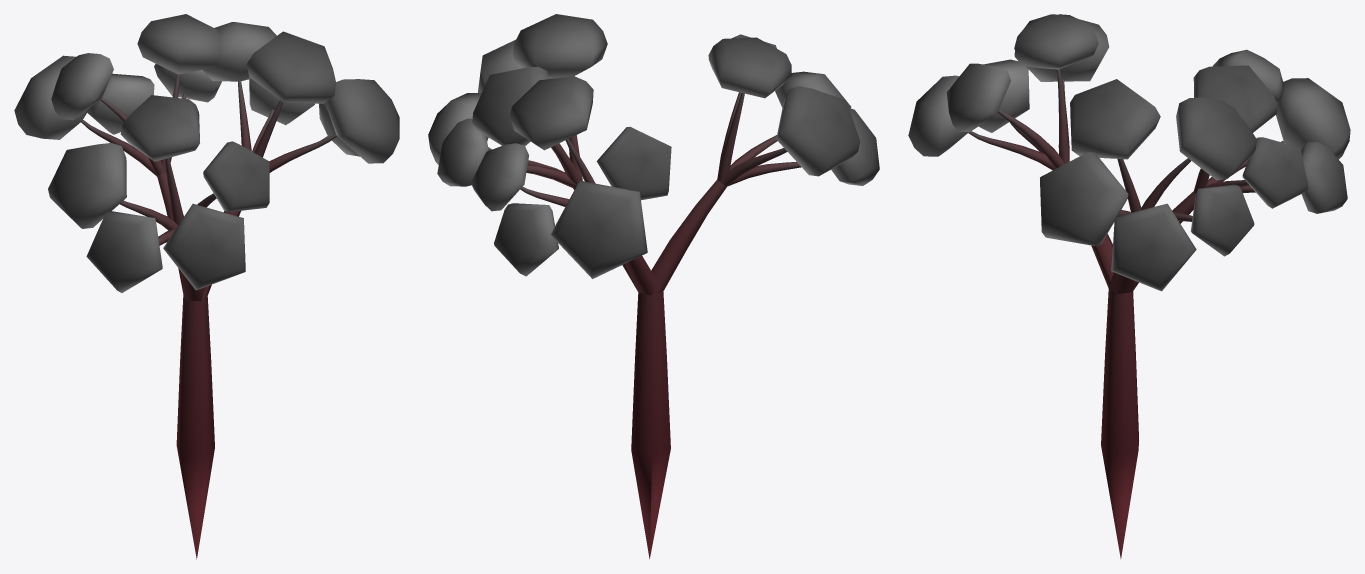
Rendered from plants-trees-palms-gray-leaf-tree_v1.glb.
3 views of the same model, side by side, from view 1: azimuth 30°, elevation 25°; view 2: azimuth 150°, elevation 25°; view 3: azimuth 270°, elevation 25° (orthographic). The views are drawn at different scales.
Parts seen in each view (by area): view 1: Gray Leaf Tree_v1; view 2: Gray Leaf Tree_v1; view 3: Gray Leaf Tree_v1.
Part boxes in pixels (x1,y1,x2,y2): Gray Leaf Tree_v1: (14,14,399,559); Gray Leaf Tree_v1: (428,14,879,558); Gray Leaf Tree_v1: (908,14,1350,558).
Size of the model in its own units: 3.78 by 5 by 3.89.
